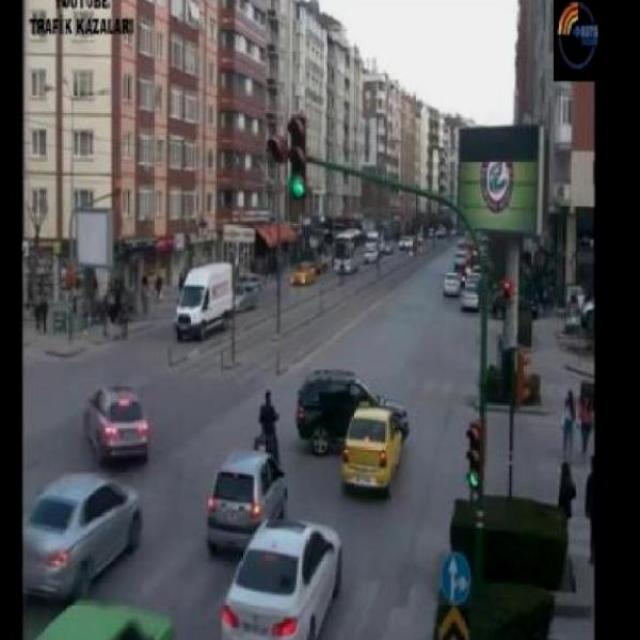accident: (297, 366, 411, 497)
